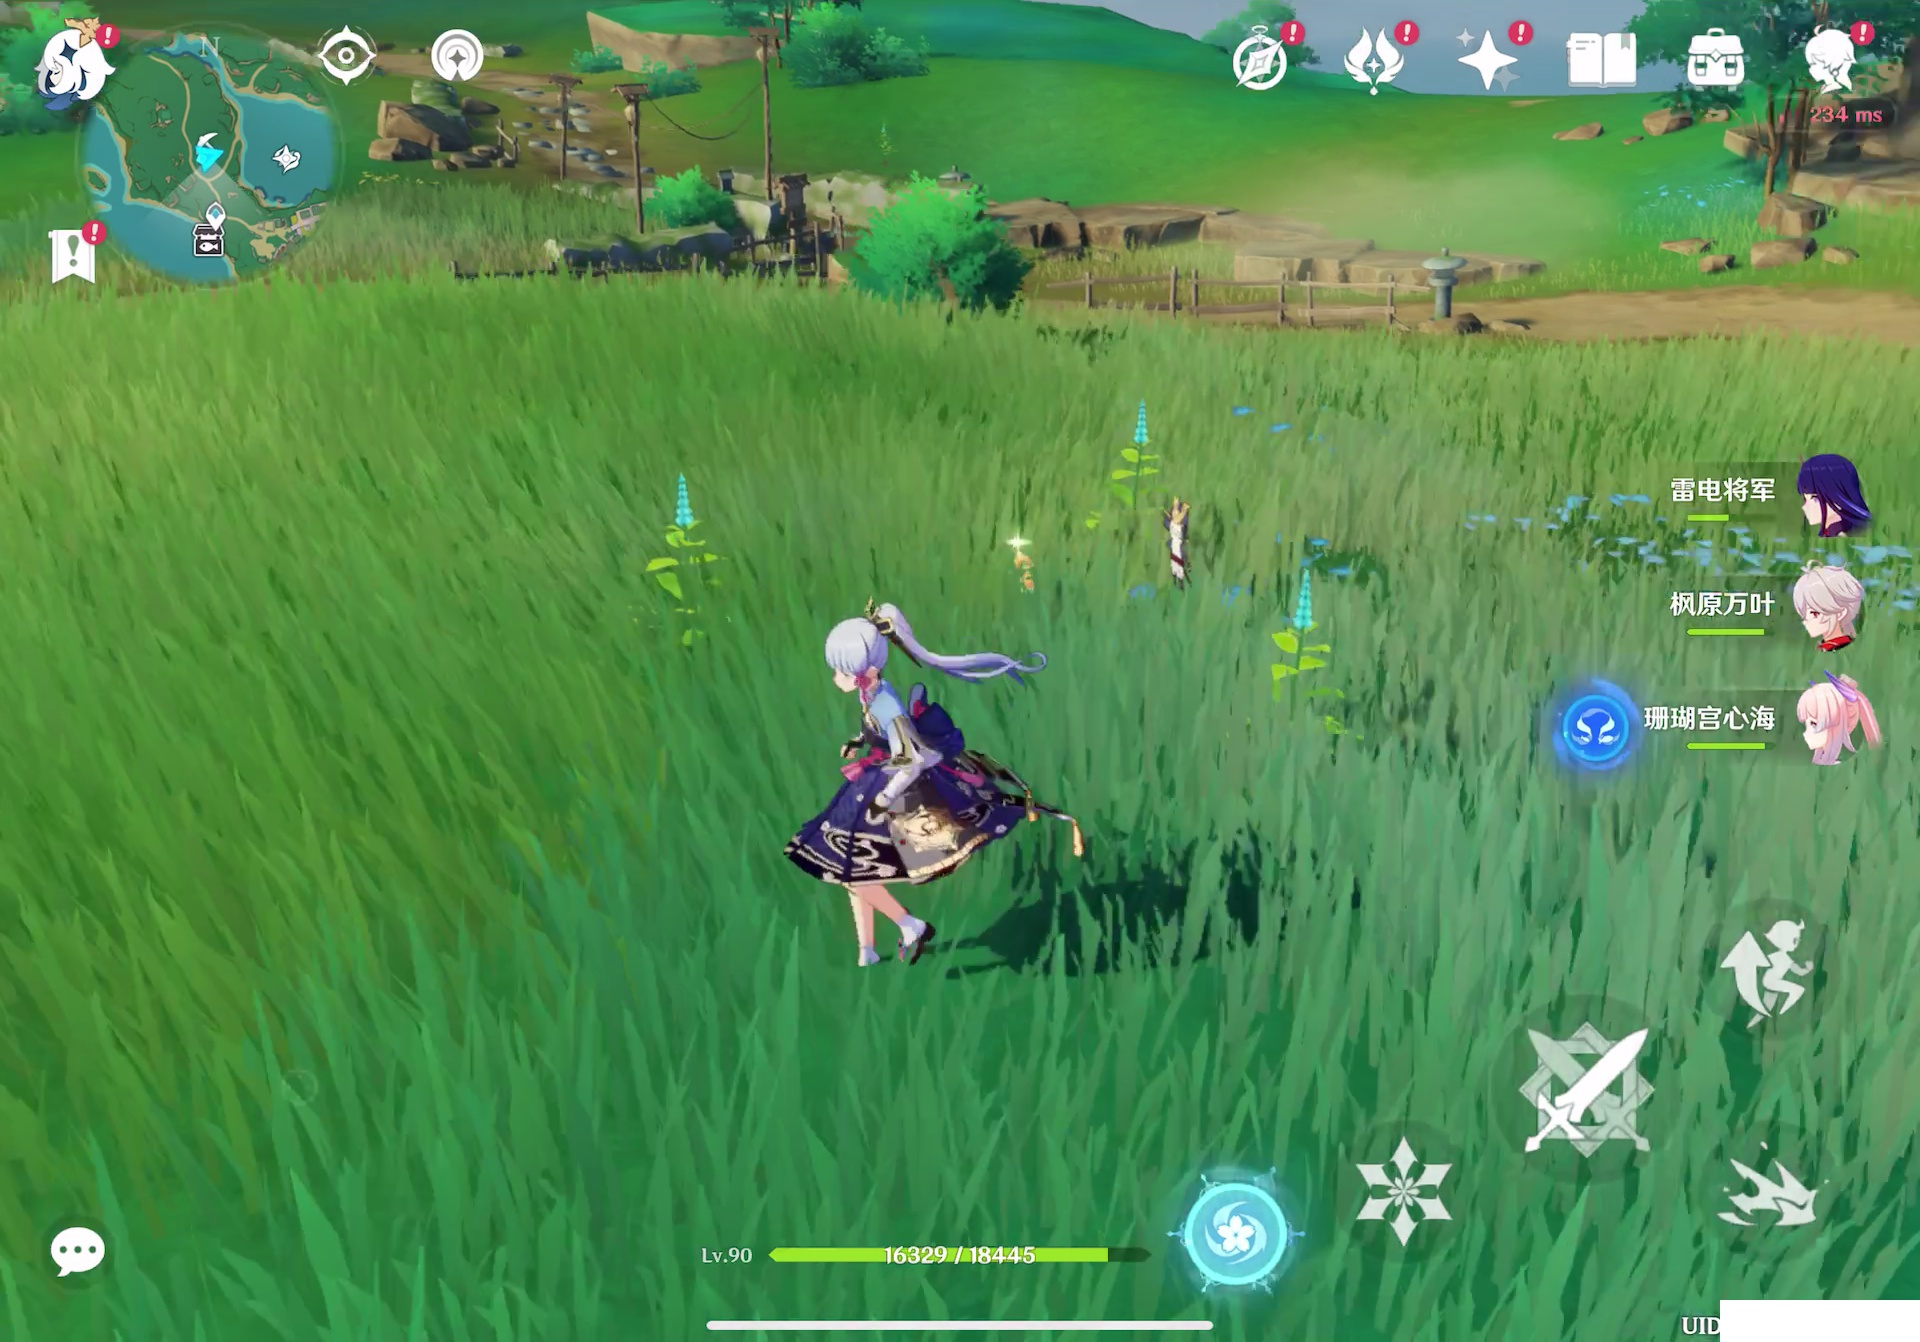没用的甜甜花: (980, 519, 1056, 589)
没用的薄荷: (624, 448, 746, 659), (1255, 565, 1350, 751), (1091, 392, 1161, 541)
神里绫龟: (783, 591, 1102, 970)
